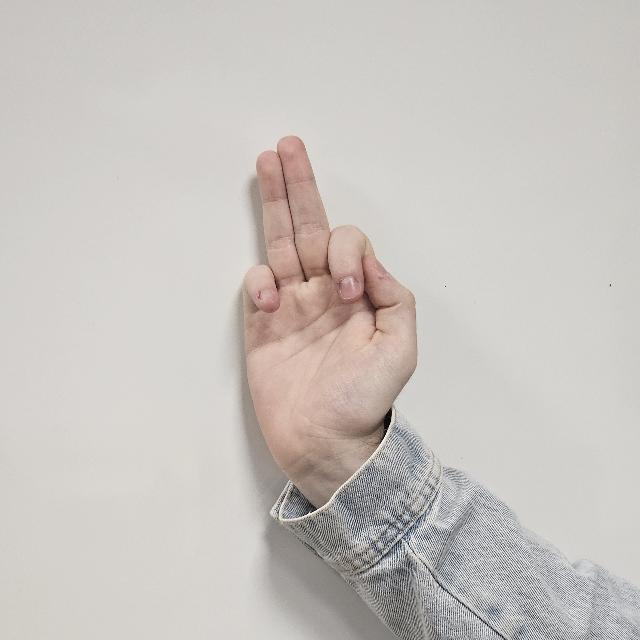R: (240, 138, 414, 474)
